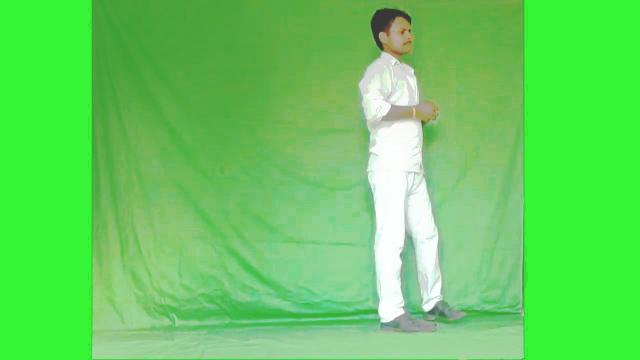berjalan: (356, 5, 464, 333)
